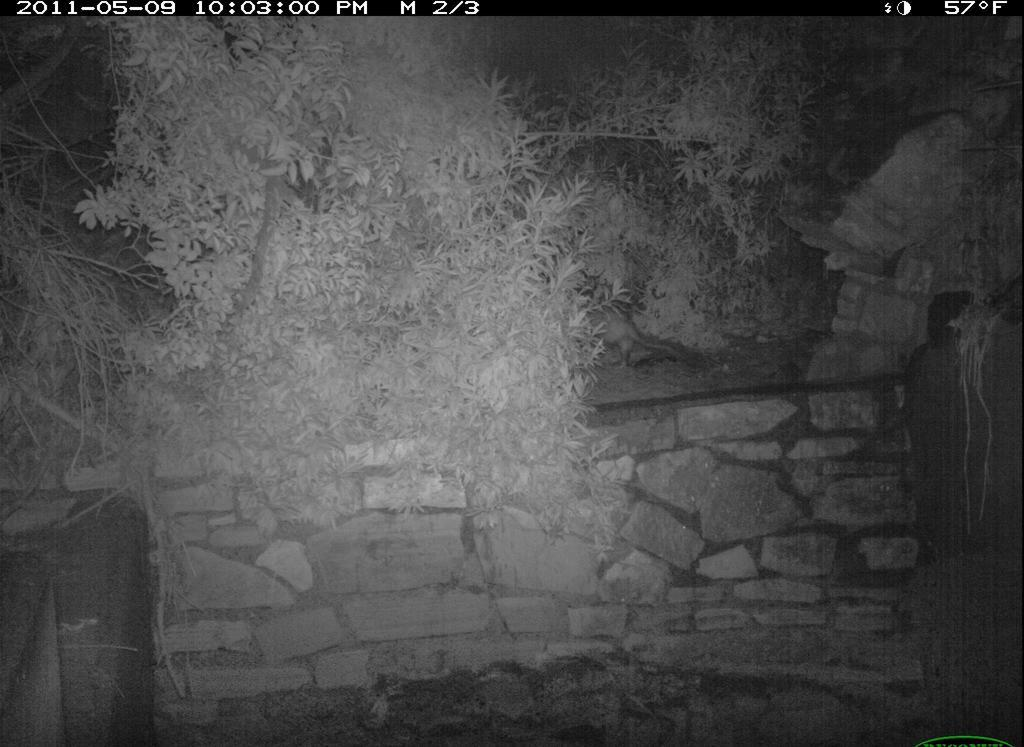opossum: (555, 297, 687, 373)
